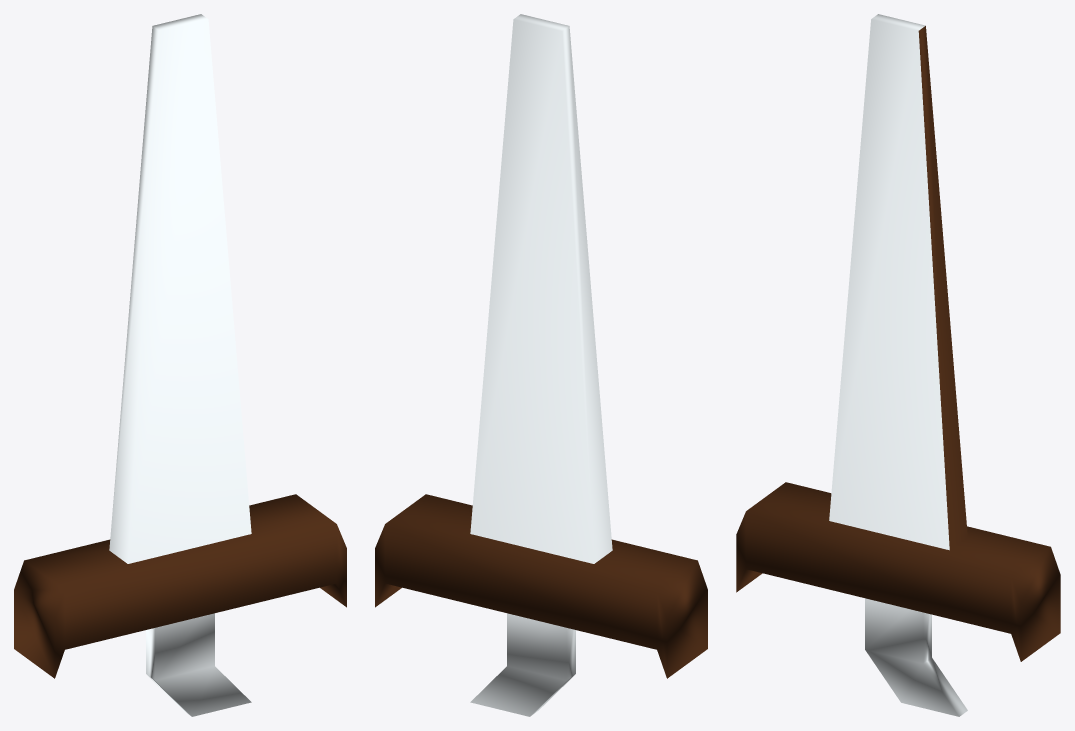
Rendered from keris.fbx.
The picture shows the model from 3 angles, left to right: view 1: azimuth 30°, elevation 25°; view 2: azimuth 150°, elevation 25°; view 3: azimuth 330°, elevation 25°; orthographic projection. The views are drawn at different scales.
Parts seen in each view (by area): view 1: Cube; view 2: Cube; view 3: Cube.
Boxes of the visible parts, <box> form: Cube: <box>14,14,346,716</box>; Cube: <box>375,14,707,716</box>; Cube: <box>736,14,1060,716</box>.
Size of the model in its own units: 15.14 by 34.32 by 3.67.
